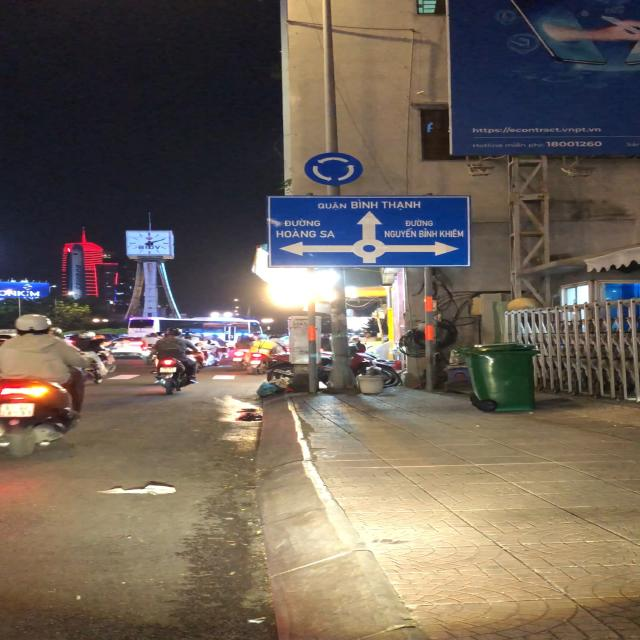Bien bao noi giao nhau chay theo vong xuyen: (302, 150, 366, 188)
